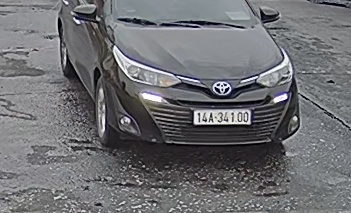vehicle plate: (190, 108, 257, 123)
